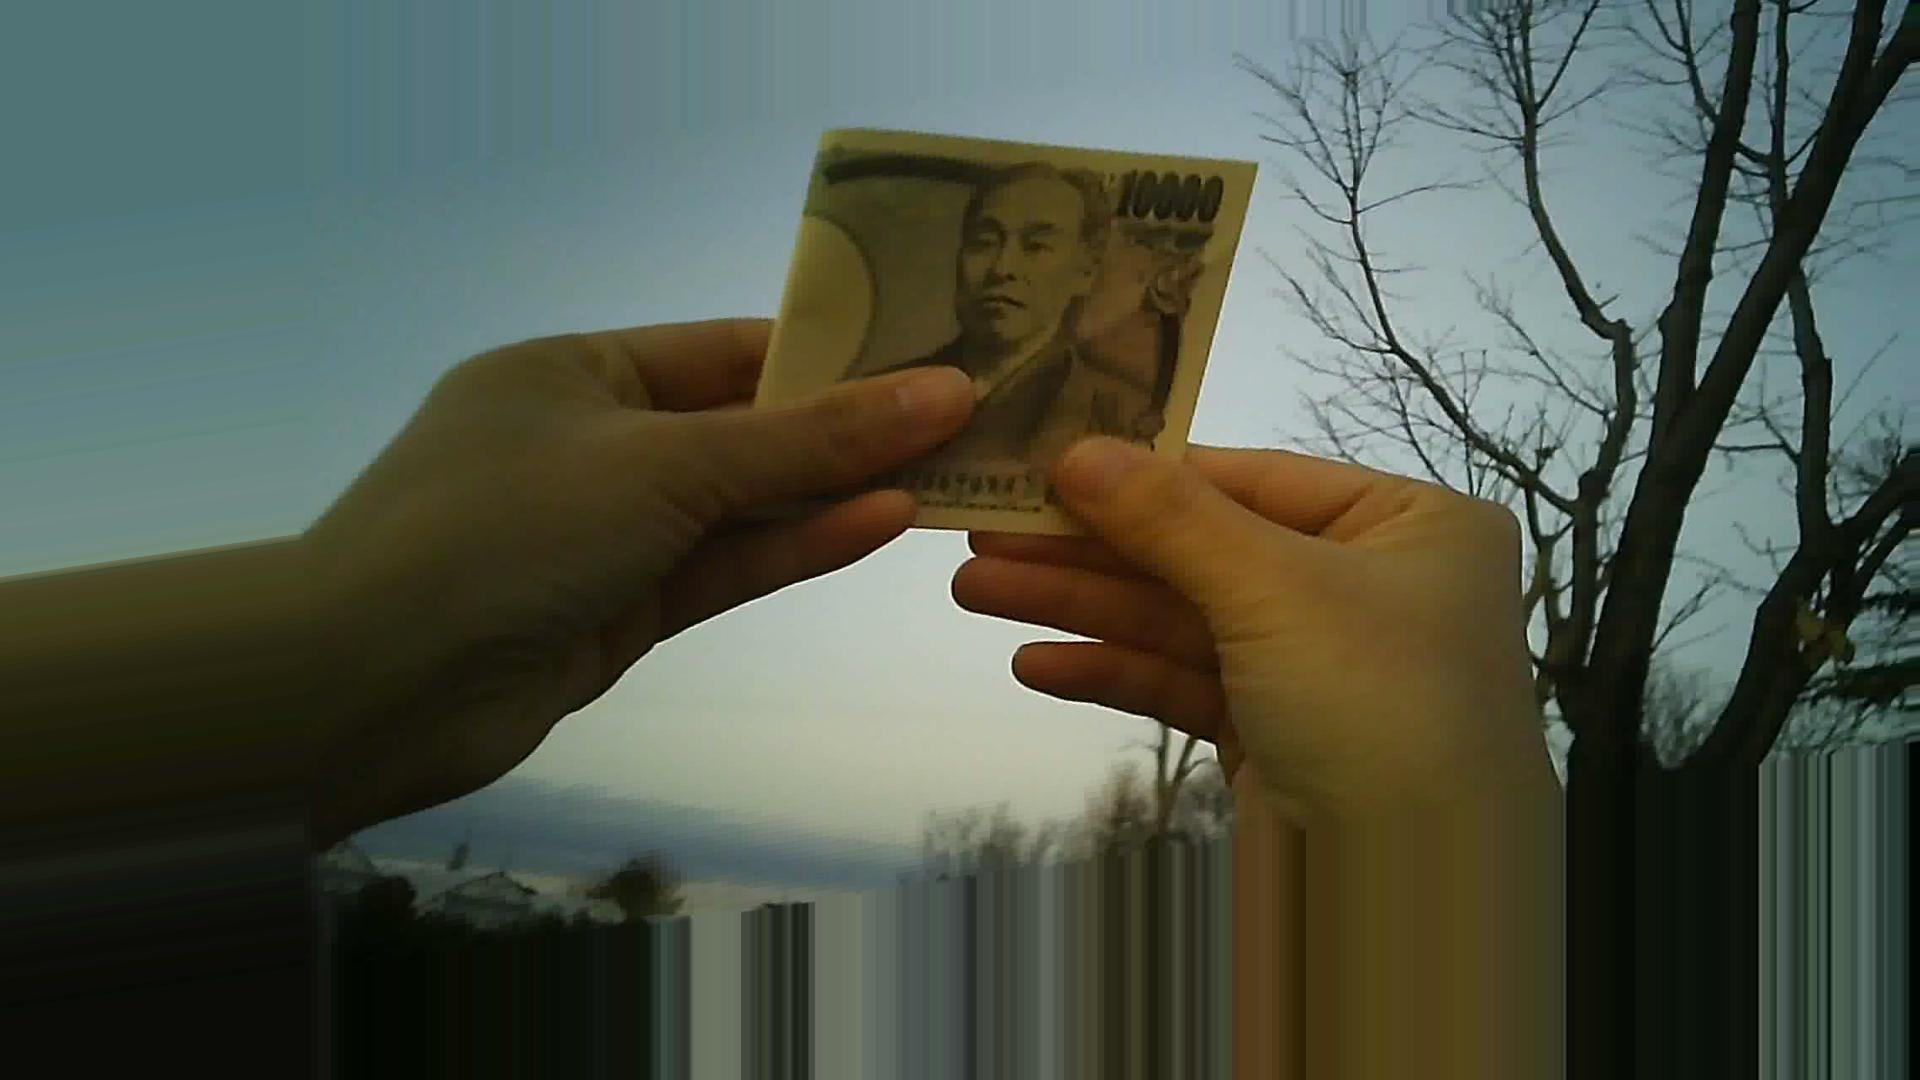10,000 Yen: (748, 119, 1244, 541)
